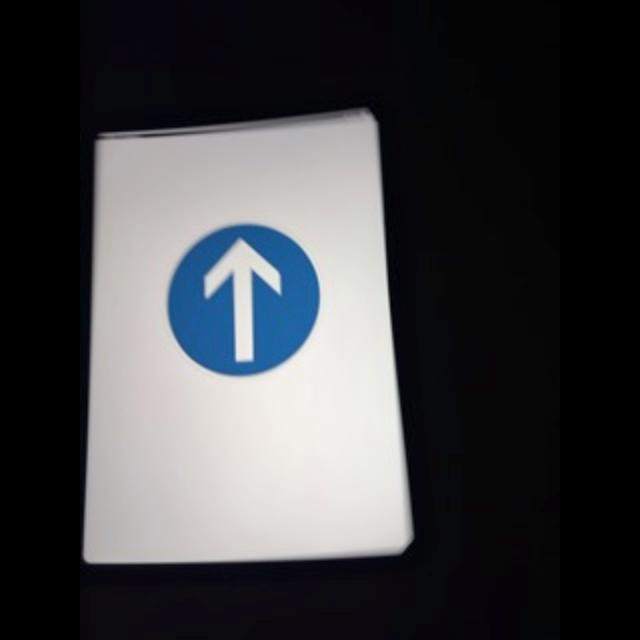GO FORWARD: (165, 214, 325, 382)
